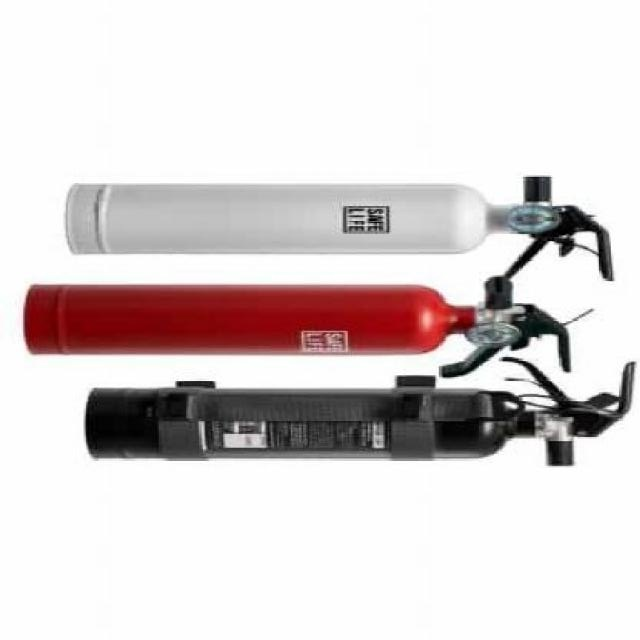fire extinguisher: (83, 356, 635, 467), (63, 175, 615, 281), (22, 277, 573, 378)
